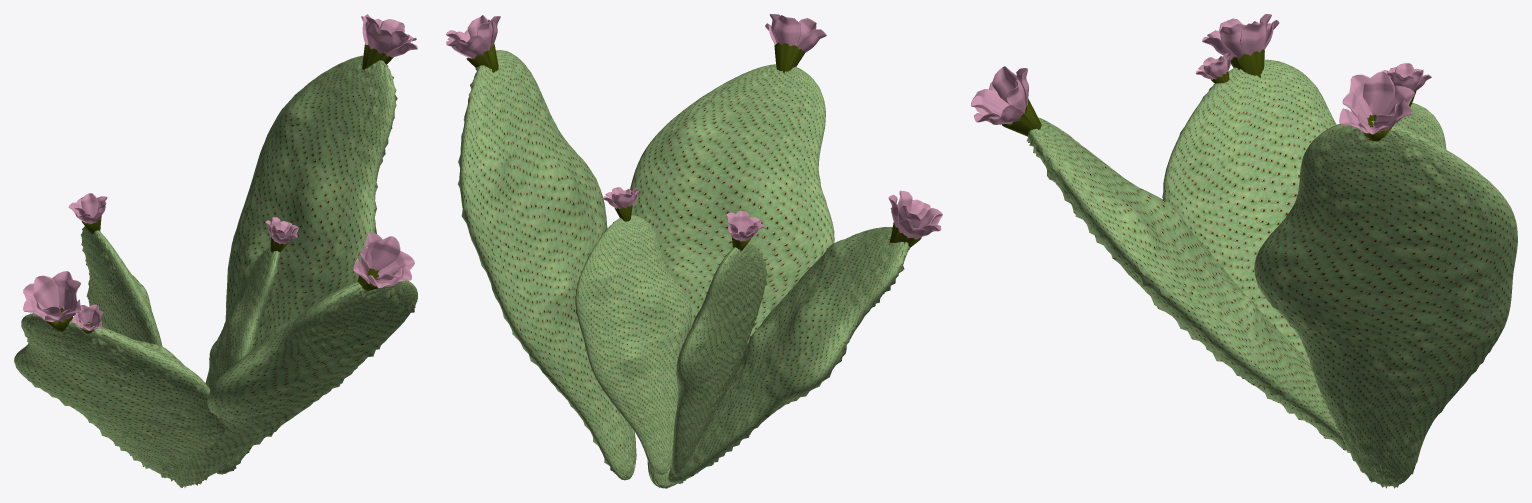
Rendered from YaraF-cactus+anim-Unity.fbx.
3 views of the same model, side by side, from view 1: azimuth 30°, elevation 25°; view 2: azimuth 150°, elevation 25°; view 3: azimuth 270°, elevation 25° (orthographic). The views are drawn at different scales.
Visible parts, largest first — view 1: polySurface20, polySurface25, polySurface24, polySurface26, polySurface22, polySurface21, polySurface23; view 2: polySurface20, polySurface25, polySurface24, polySurface26, polySurface22, polySurface21; view 3: polySurface20, polySurface26, polySurface25, polySurface24, polySurface22, polySurface23.
Boxes of the visible parts, <box> form: polySurface20: <box>14,55,417,487</box>; polySurface25: <box>353,233,414,291</box>; polySurface24: <box>23,271,81,332</box>; polySurface26: <box>361,14,417,69</box>; polySurface22: <box>68,193,107,234</box>; polySurface21: <box>265,217,298,252</box>; polySurface23: <box>72,304,103,333</box>; polySurface20: <box>458,50,909,488</box>; polySurface25: <box>765,14,826,73</box>; polySurface24: <box>888,190,942,247</box>; polySurface26: <box>446,15,500,72</box>; polySurface22: <box>726,210,764,251</box>; polySurface21: <box>602,187,640,221</box>; polySurface20: <box>1027,59,1517,488</box>; polySurface26: <box>1339,71,1414,141</box>; polySurface25: <box>971,66,1041,136</box>; polySurface24: <box>1202,14,1279,77</box>; polySurface22: <box>1381,63,1431,106</box>; polySurface23: <box>1195,53,1232,83</box>.
Bounding box in the file's own units: 2.19 × 2.02 × 2.
3 materials, 1 textured.
